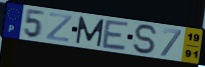5: (23, 8, 46, 39)
7: (160, 27, 183, 58)
E: (101, 18, 131, 52)
M: (75, 15, 106, 48)
S: (132, 24, 160, 56)
Z: (45, 12, 74, 44)
